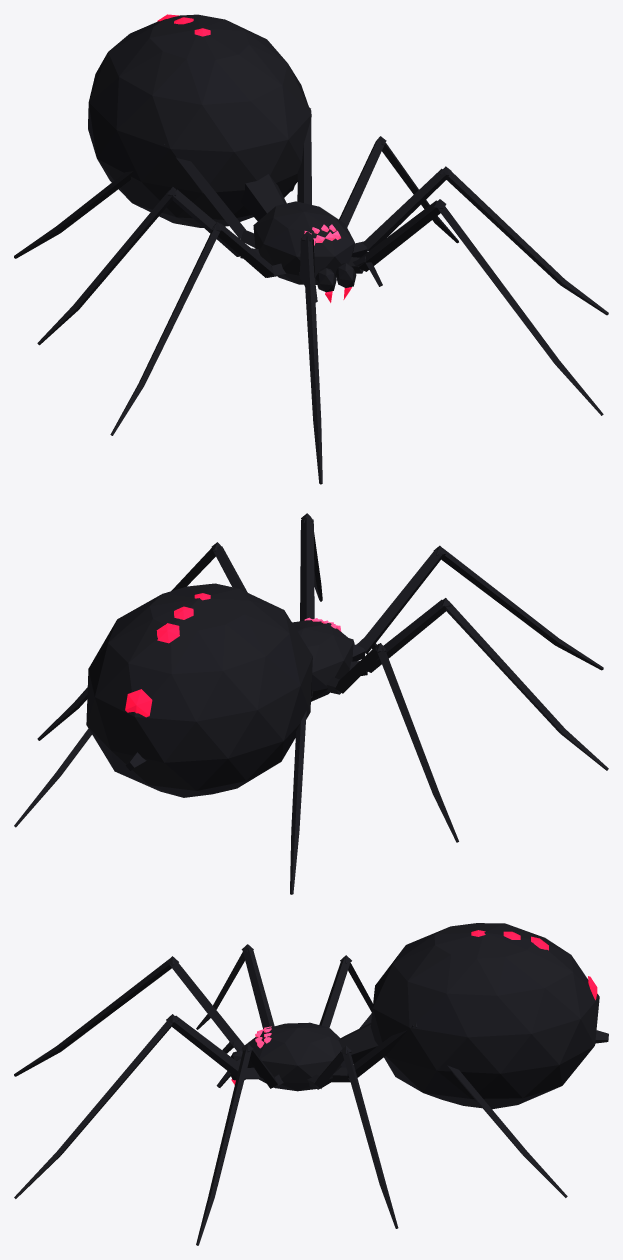
File: widow.glb
3 views of the same model, one above another, from view 1: azimuth 30°, elevation 25°; view 2: azimuth 150°, elevation 25°; view 3: azimuth 270°, elevation 25° (orthographic). The views are drawn at different scales.
Visible parts, largest first — view 1: abdomen, body, leg_R1_lower, leg_L1_lower, leg_L2_lower, leg_R2_lower, leg_R3_lower, leg_L2_upper, leg_L1_upper, leg_R4_upper, leg_R4_lower, leg_R2_upper (+5 smaller); view 2: abdomen, body, leg_R2_lower, leg_R1_lower, leg_R1_upper, leg_R3_lower, leg_R4_lower, leg_L1_upper, leg_R2_upper, leg_R3_upper, leg_L4_lower, leg_L2_upper (+1 smaller); view 3: abdomen, body, leg_L1_lower, leg_R1_lower, leg_L2_lower, leg_L3_lower, leg_L1_upper, leg_L4_lower, leg_R1_upper, leg_L4_upper, leg_R2_upper, leg_R3_upper (+3 smaller).
Boxes of the visible parts, <box> form: abdomen: <box>88,14,311,227</box>; body: <box>253,201,354,284</box>; leg_R1_lower: <box>301,231,322,484</box>; leg_L1_lower: <box>433,199,603,415</box>; leg_L2_lower: <box>440,166,608,315</box>; leg_R2_lower: <box>110,222,223,435</box>; leg_R3_lower: <box>37,187,176,345</box>; leg_L2_upper: <box>352,168,446,257</box>; leg_L1_upper: <box>348,200,440,273</box>; leg_R4_upper: <box>176,157,255,247</box>; leg_R4_lower: <box>14,144,164,258</box>; leg_R2_upper: <box>213,223,286,277</box>; abdomen: <box>86,583,312,797</box>; body: <box>292,617,353,701</box>; leg_R2_lower: <box>441,598,608,770</box>; leg_R1_lower: <box>433,545,603,670</box>; leg_R1_upper: <box>352,549,442,661</box>; leg_R3_lower: <box>374,643,458,842</box>; leg_R4_lower: <box>290,657,310,894</box>; leg_L1_upper: <box>300,517,314,621</box>; leg_R2_upper: <box>349,599,446,675</box>; leg_R3_upper: <box>326,644,385,694</box>; leg_L4_lower: <box>14,728,91,827</box>; leg_L2_upper: <box>213,546,247,592</box>; abdomen: <box>338,923,608,1109</box>; body: <box>242,1022,346,1091</box>; leg_L1_lower: <box>14,1014,178,1198</box>; leg_R1_lower: <box>14,956,178,1076</box>; leg_L2_lower: <box>196,1043,253,1245</box>; leg_L3_lower: <box>340,1046,398,1228</box>; leg_L1_upper: <box>172,1015,261,1079</box>; leg_L4_lower: <box>413,1023,567,1197</box>; leg_R1_upper: <box>169,959,244,1051</box>; leg_L4_upper: <box>330,1025,413,1082</box>; leg_R2_upper: <box>242,947,274,1029</box>; leg_R3_upper: <box>319,959,350,1027</box>.
Bounding box in the file's own units: 5.6 × 2.5 × 6.48.
